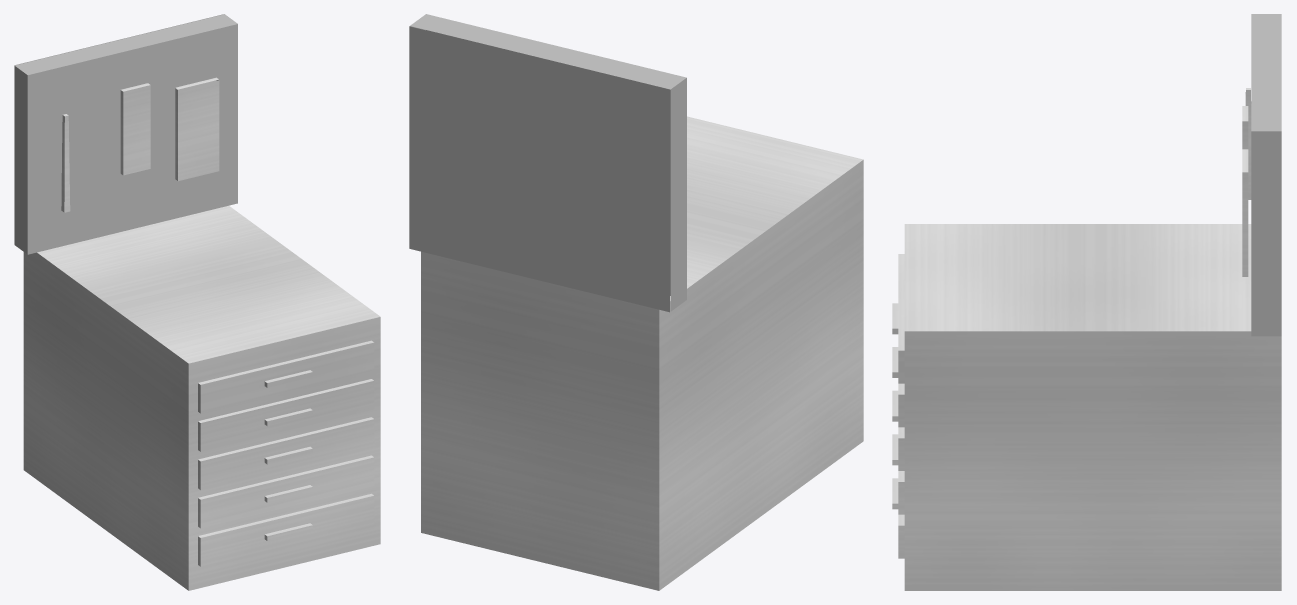
Rendered from tool_cabinet.obj.
The picture shows the model from 3 angles, left to right: view 1: azimuth 30°, elevation 25°; view 2: azimuth 150°, elevation 25°; view 3: azimuth 270°, elevation 25°; orthographic projection. The views are drawn at different scales.
Visible parts, largest first — view 1: tool_cabinet; view 2: tool_cabinet; view 3: tool_cabinet.
Boxes of the visible parts, <box> form: tool_cabinet: <box>14,14,380,590</box>; tool_cabinet: <box>409,14,863,590</box>; tool_cabinet: <box>892,14,1281,590</box>.
Size of the model in its own units: 0.92 by 1.7 by 1.29.
